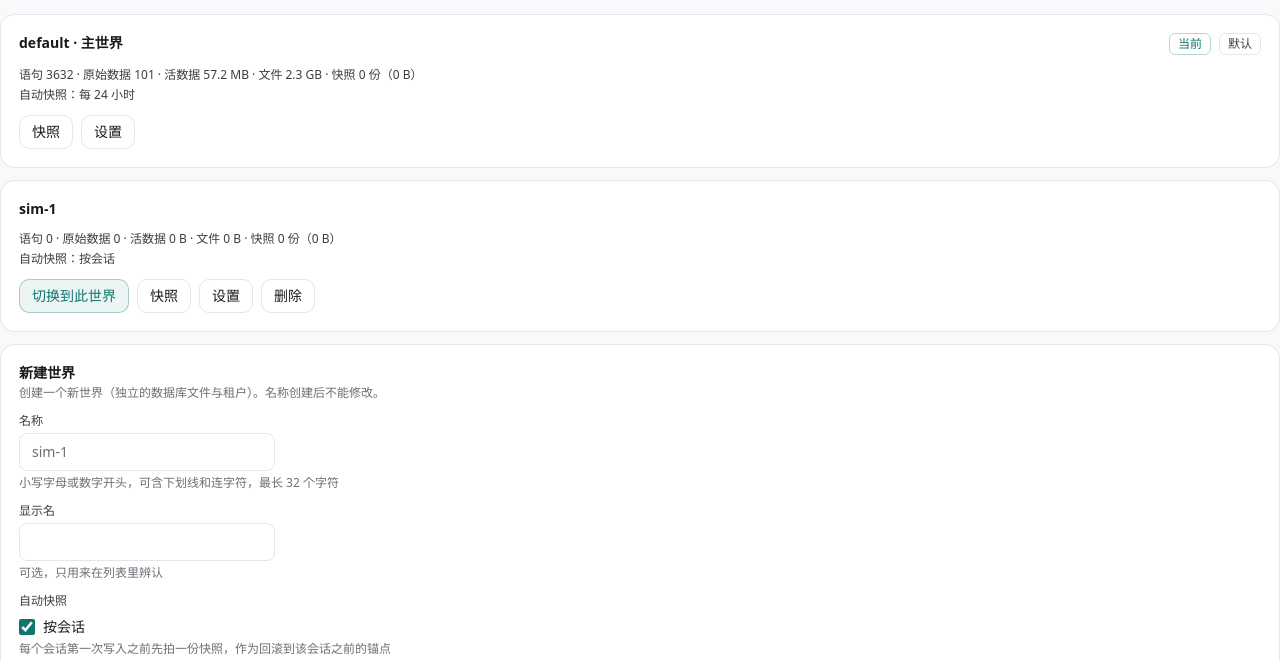
Scenario: /worlds 新建世界带自动快照配置 › 默认按会话开、间隔 0；改过之后随新建一起提交
This screenshot has width=1280, height=660.
Step 1. Type "sim-2" into the field named "world-name" → (147, 452), box [19,433,275,471]
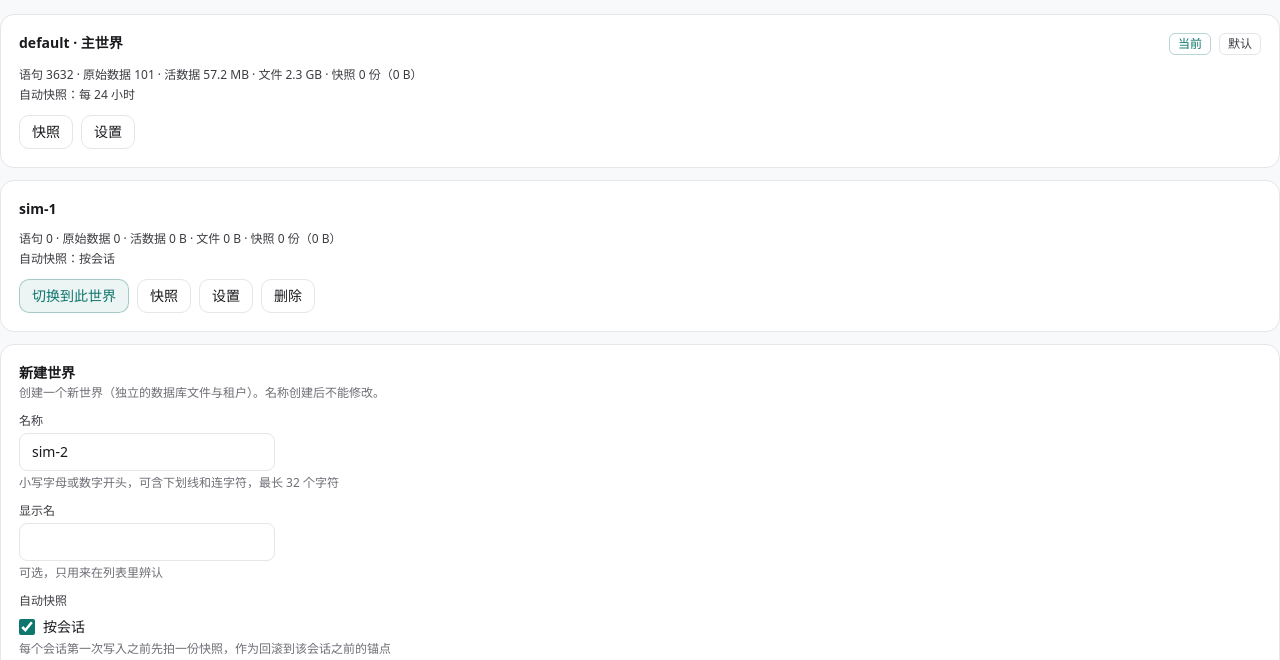
Step 2. Click the checkbox labelled "按会话" → click(27, 627), box [19,619,35,635]
(page scrolled)
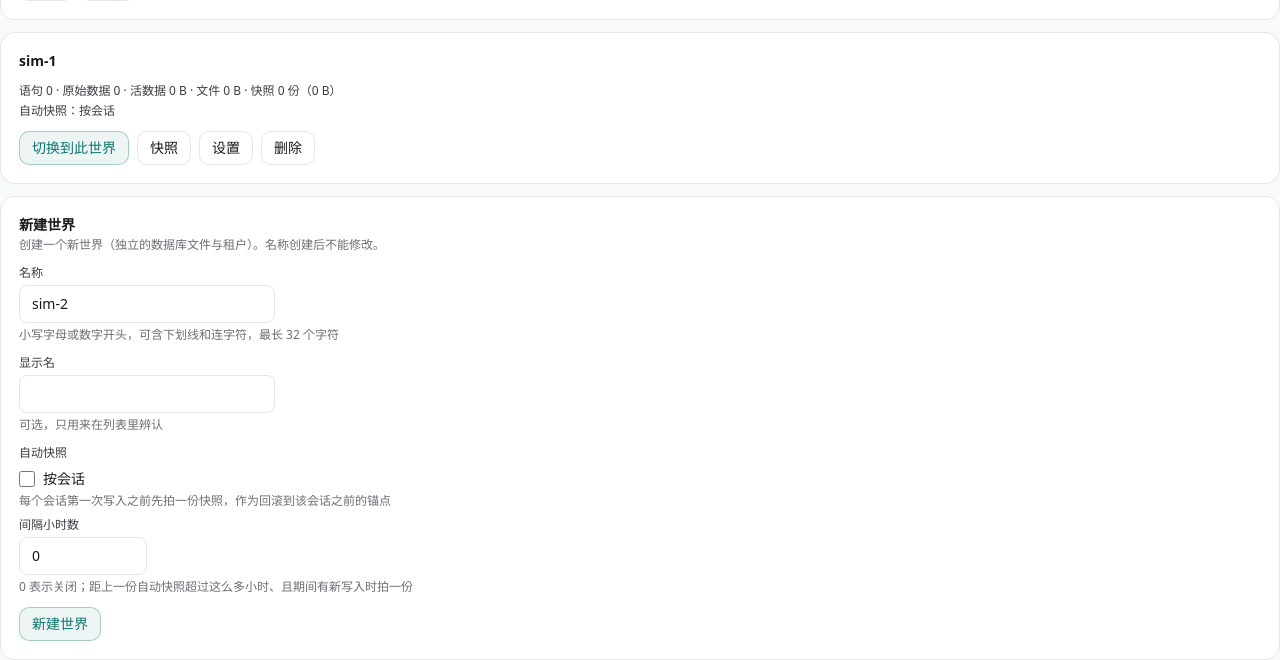
Step 3. Replace the text in the number field named "world-new-interval" with "12" → (83, 556), box [19,537,147,575]
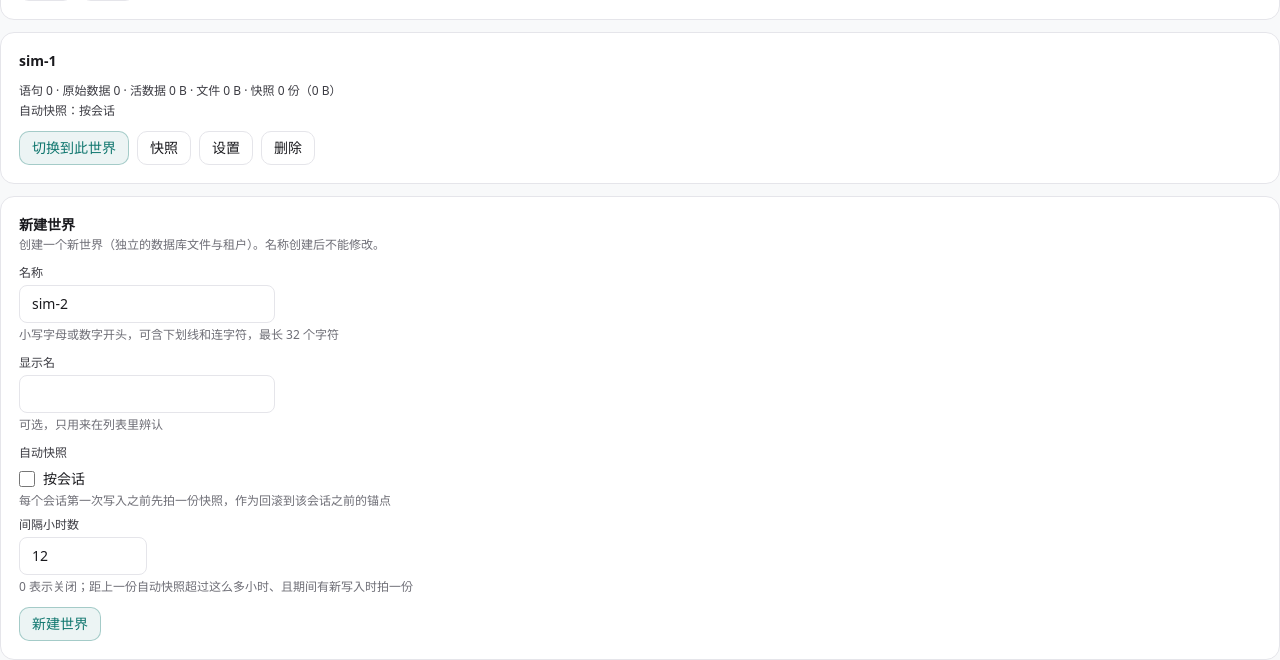
Step 4. Click the button "新建世界" → click(60, 624), box [19,607,101,641]
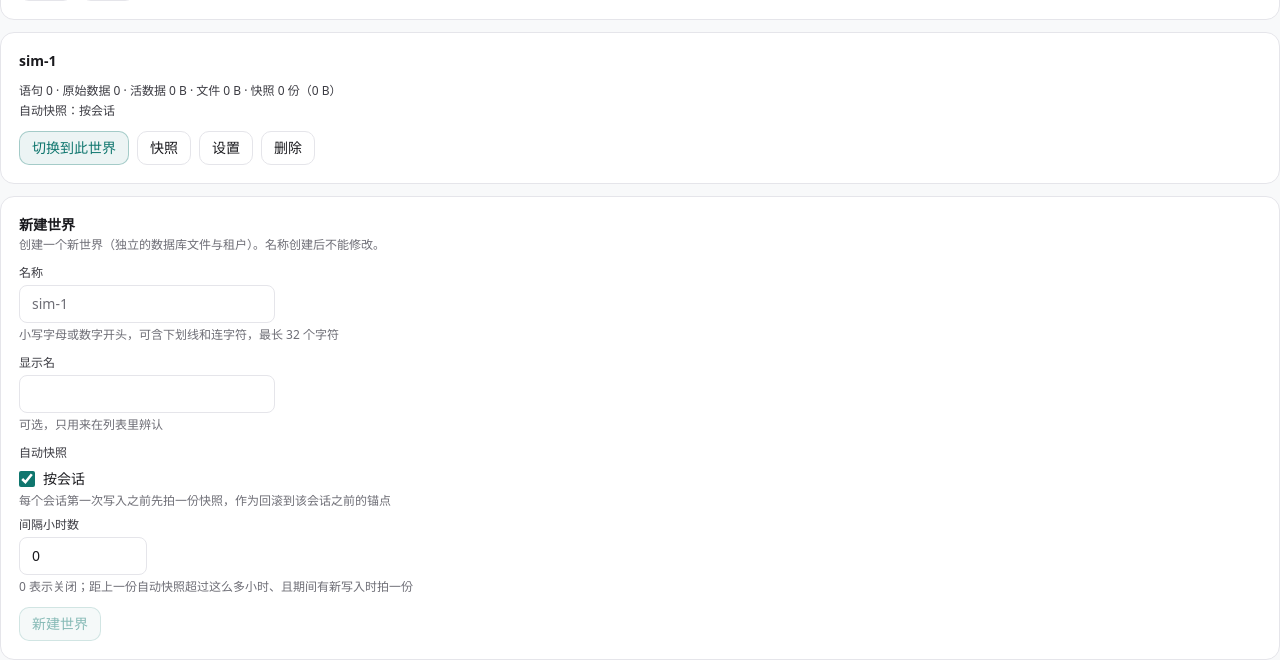
Check: the number field named "world-new-interval" holds "0", box [19,537,147,575]
